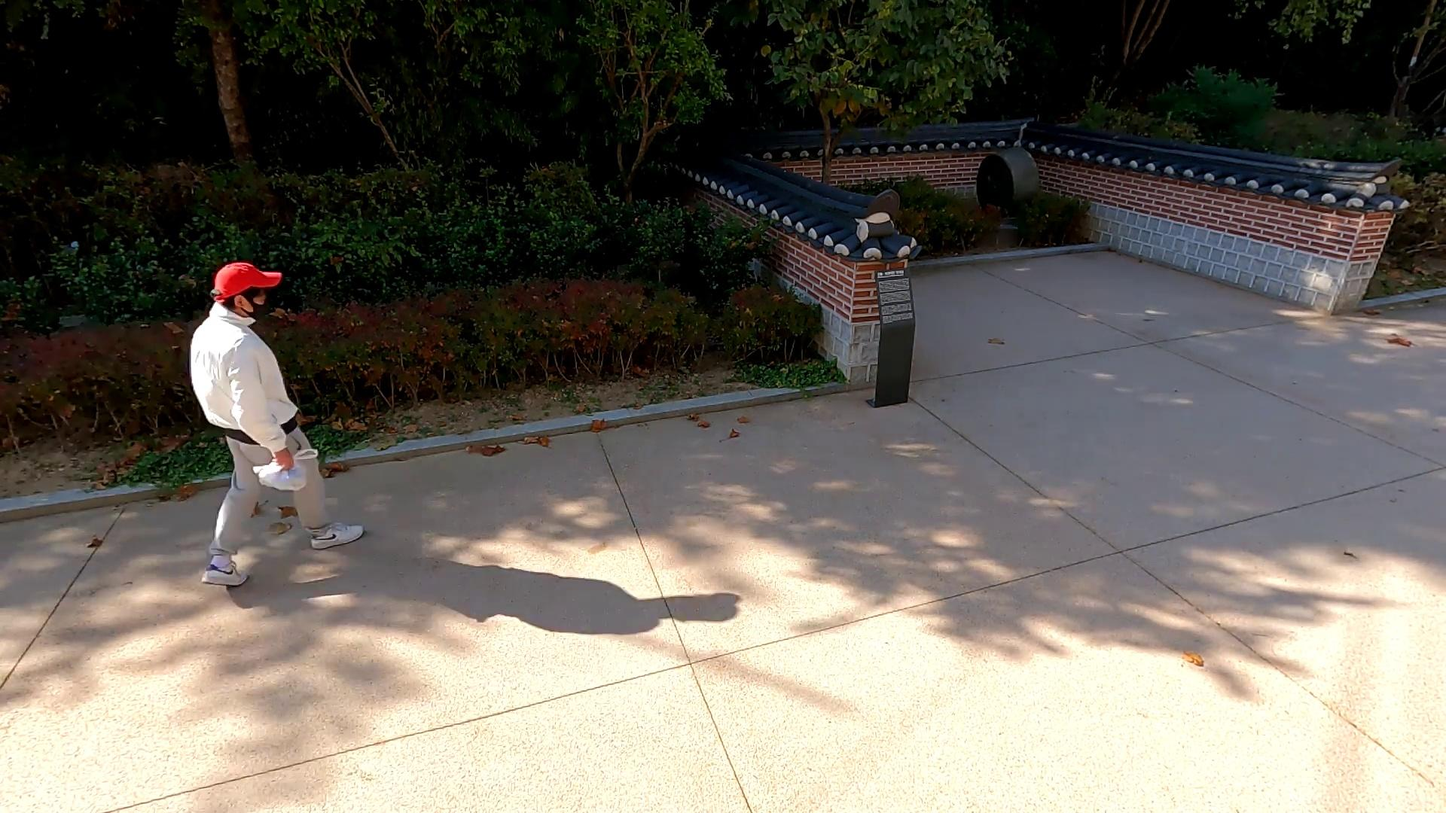person: (186, 259, 370, 589)
trash: (245, 442, 319, 496)
